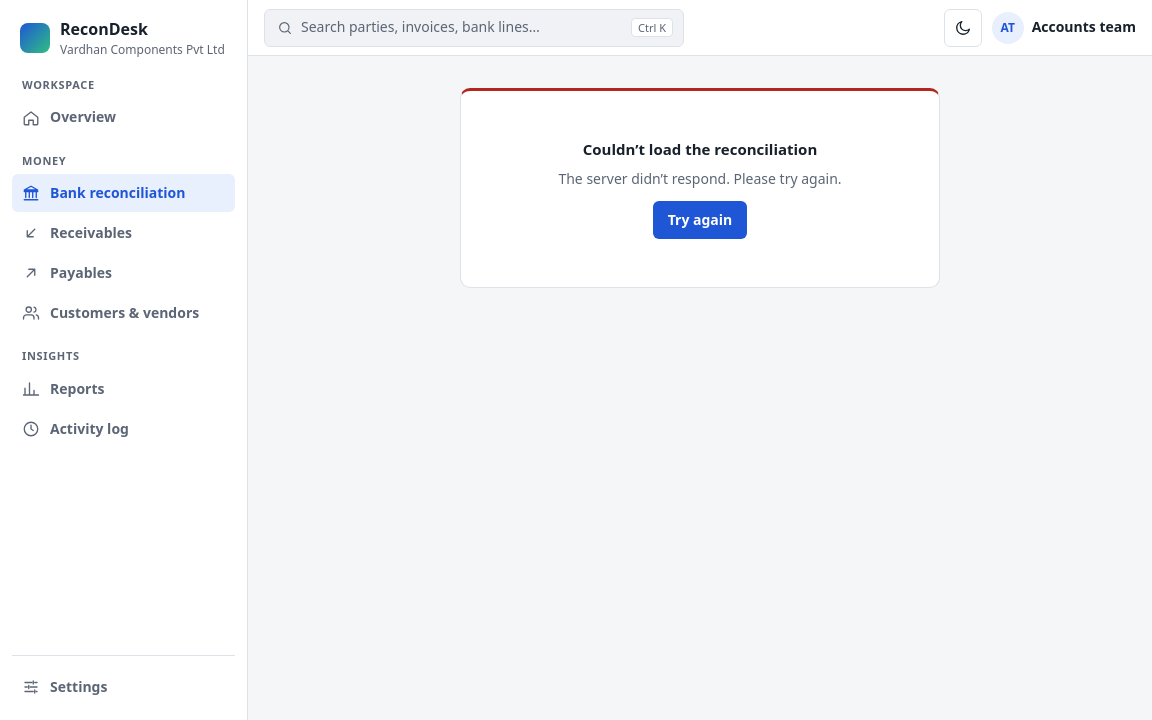
Workbench › shows an error with a retry when loading fails
This screenshot has width=1152, height=720.
Expected: the message shows "Couldn’t load the reconciliation", x1=583 y1=139 x2=817 y2=159
Click the button "Try again".
click(700, 220)  # box x1=653 y1=201 x2=747 y2=239
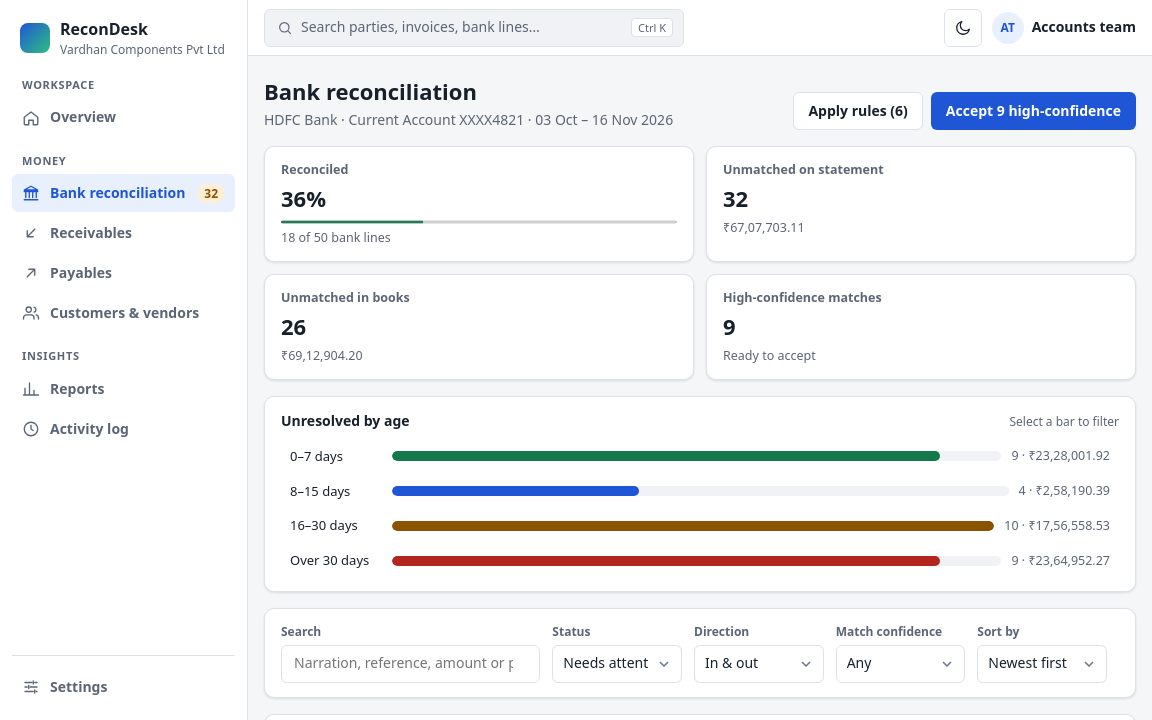
Now the heading "Bank reconciliation" is shown, box x1=264 y1=76 x2=477 y2=108
